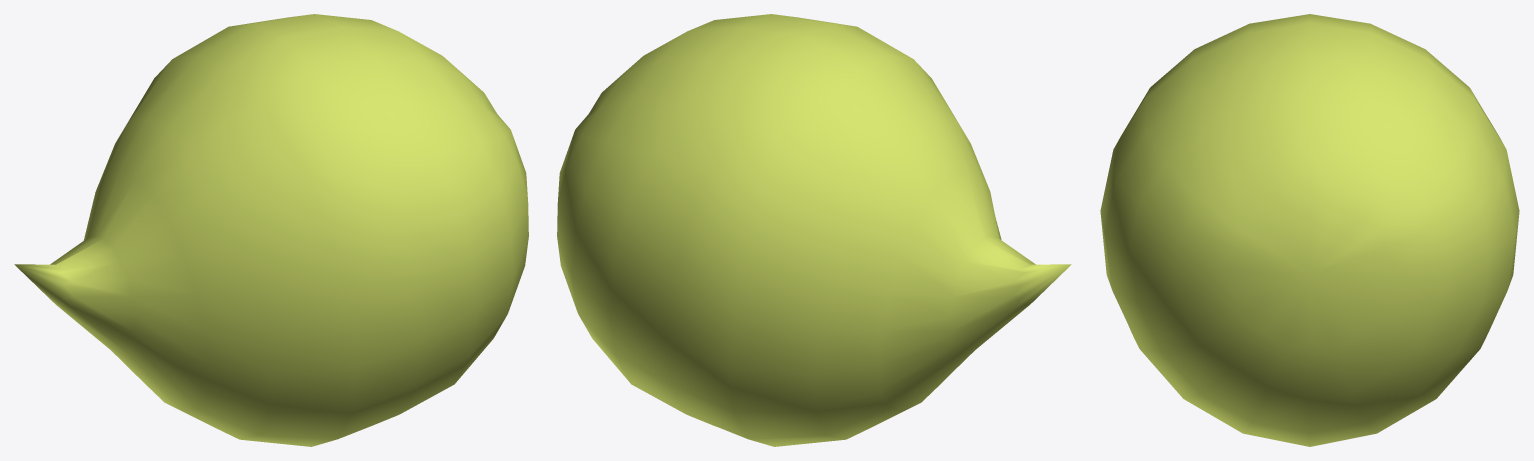
The model's file is drop_200.fbx.
3 views of the same model, side by side, from view 1: azimuth 30°, elevation 25°; view 2: azimuth 150°, elevation 25°; view 3: azimuth 270°, elevation 25° (orthographic).
Visible parts, largest first — view 1: drop_200; view 2: drop_200; view 3: drop_200.
Part boxes in pixels (<box>): drop_200: <box>14,14,528,446</box>; drop_200: <box>557,14,1071,446</box>; drop_200: <box>1100,14,1519,446</box>.
Bounding box in the file's own units: 0.3019 × 0.2375 × 0.231.
